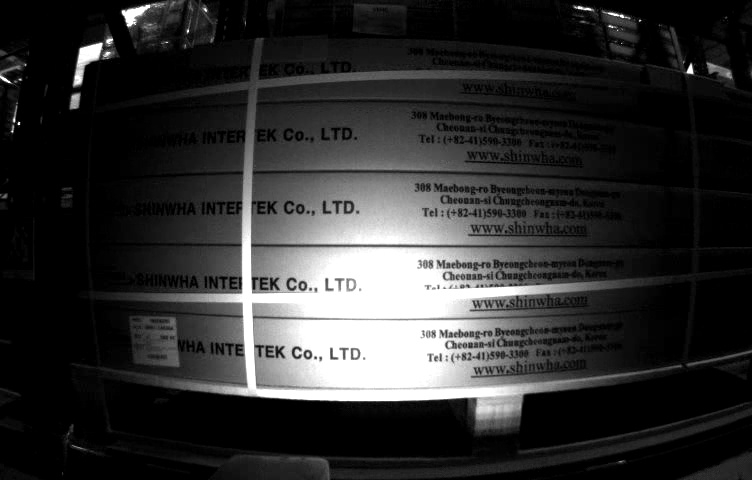True Barcode: (128, 317, 181, 368)
